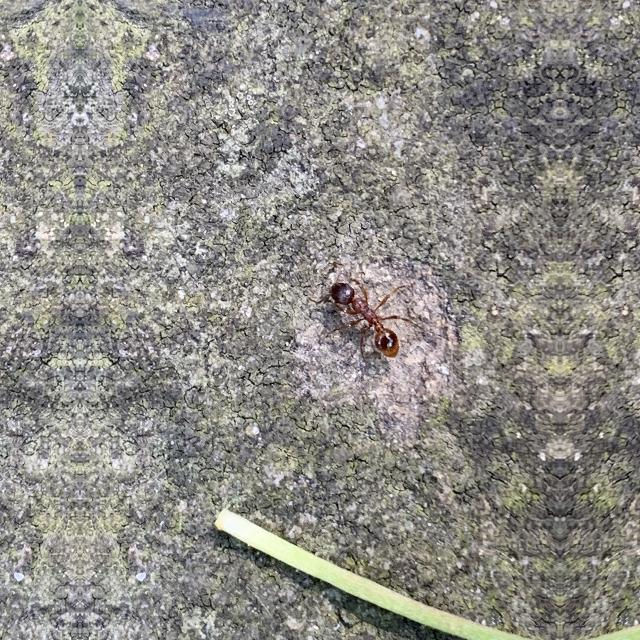Myrmica: (318, 255, 414, 368)
